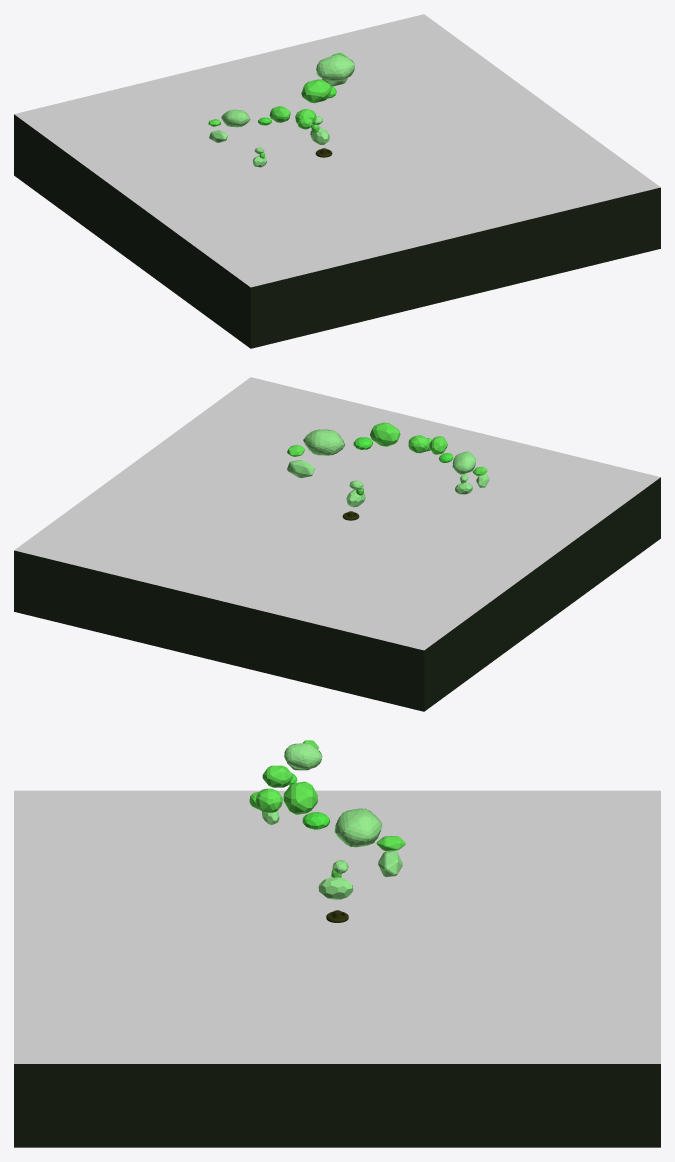
The model's file is SchachNeu.glb.
3 renders of one model, top to bottom at view 1: azimuth 30°, elevation 25°; view 2: azimuth 150°, elevation 25°; view 3: azimuth 270°, elevation 25°, orthographic. The views are drawn at different scales.
Parts seen in each view (by area): view 1: Schachbrett, Blätter.001, Blätter.002; view 2: Schachbrett, Blätter.001, Blätter.002; view 3: Schachbrett, Blätter.001, Blätter.002.
Part boxes in pixels (left/top/right/bottom): Schachbrett: left=14, top=14, right=660, bottom=348; Blätter.001: left=295, top=53, right=354, bottom=144; Blätter.002: left=208, top=106, right=312, bottom=167; Schachbrett: left=14, top=377, right=660, bottom=711; Blätter.001: left=287, top=422, right=429, bottom=507; Blätter.002: left=427, top=436, right=489, bottom=494; Schachbrett: left=14, top=790, right=660, bottom=1147; Blätter.001: left=255, top=781, right=405, bottom=899; Blätter.002: left=249, top=740, right=322, bottom=824.
Bounding box in the file's own units: 49 × 17.08 × 49.
